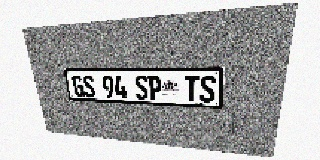4: (113, 75, 128, 99)
9: (101, 75, 116, 98)
G: (71, 75, 85, 97)
P: (148, 75, 162, 100)
S: (200, 75, 216, 103), (134, 75, 149, 100), (82, 75, 96, 98)
T: (184, 75, 200, 102)
